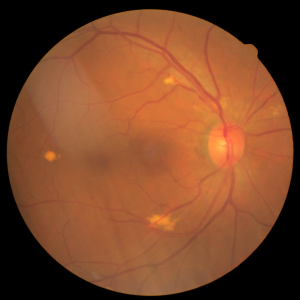retina_disease: (81, 92, 266, 210)
